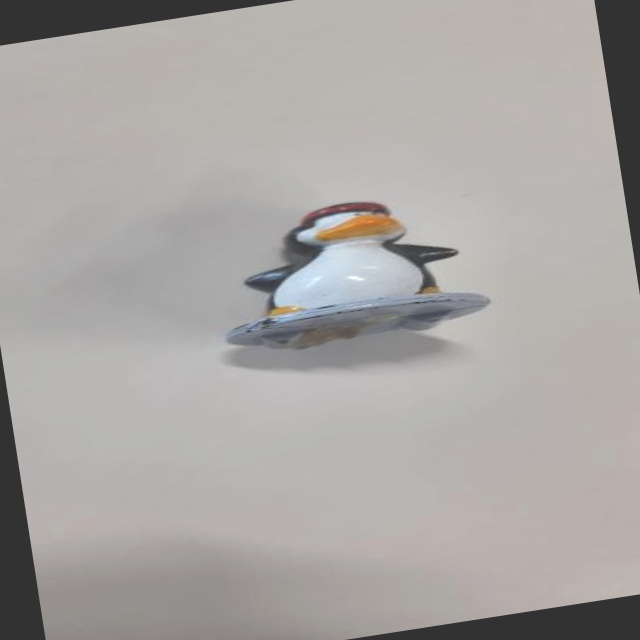Penguin: (219, 181, 483, 359)
